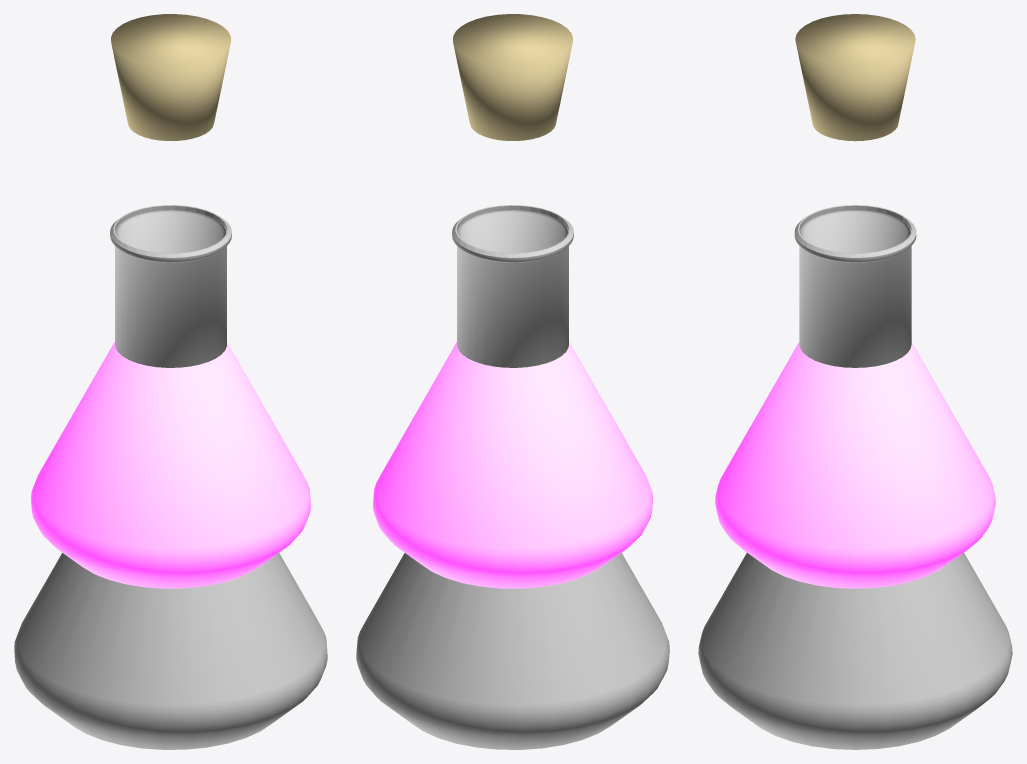
The model's file is Potion.fbx.
3 views of the same model, side by side, from view 1: azimuth 30°, elevation 25°; view 2: azimuth 150°, elevation 25°; view 3: azimuth 270°, elevation 25° (orthographic).
Parts seen in each view (by area): view 1: Potion Bottle, Content, Cap; view 2: Potion Bottle, Content, Cap; view 3: Potion Bottle, Content, Cap.
Boxes of the visible parts, x1,y1,x2,y2 form: Potion Bottle: (14,205,327,749); Content: (31,341,310,588); Cap: (111,14,230,140); Potion Bottle: (356,205,669,749); Content: (373,341,652,588); Cap: (453,14,572,140); Potion Bottle: (698,205,1012,749); Content: (715,342,995,588); Cap: (795,14,915,141).
Bounding box in the file's own units: 278 × 646 × 278.
